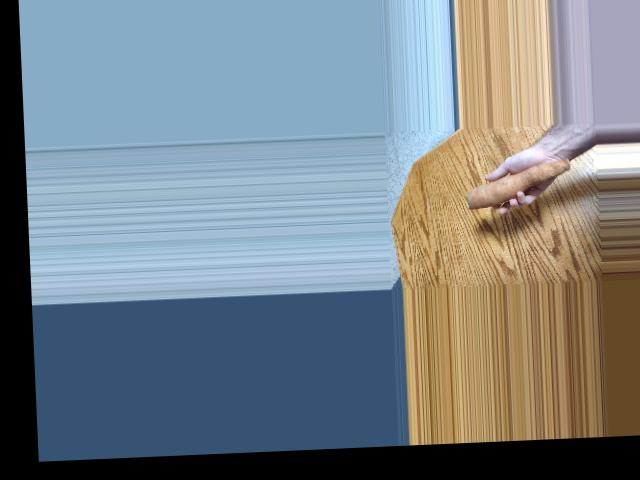sweet_potato: (464, 155, 570, 212)
